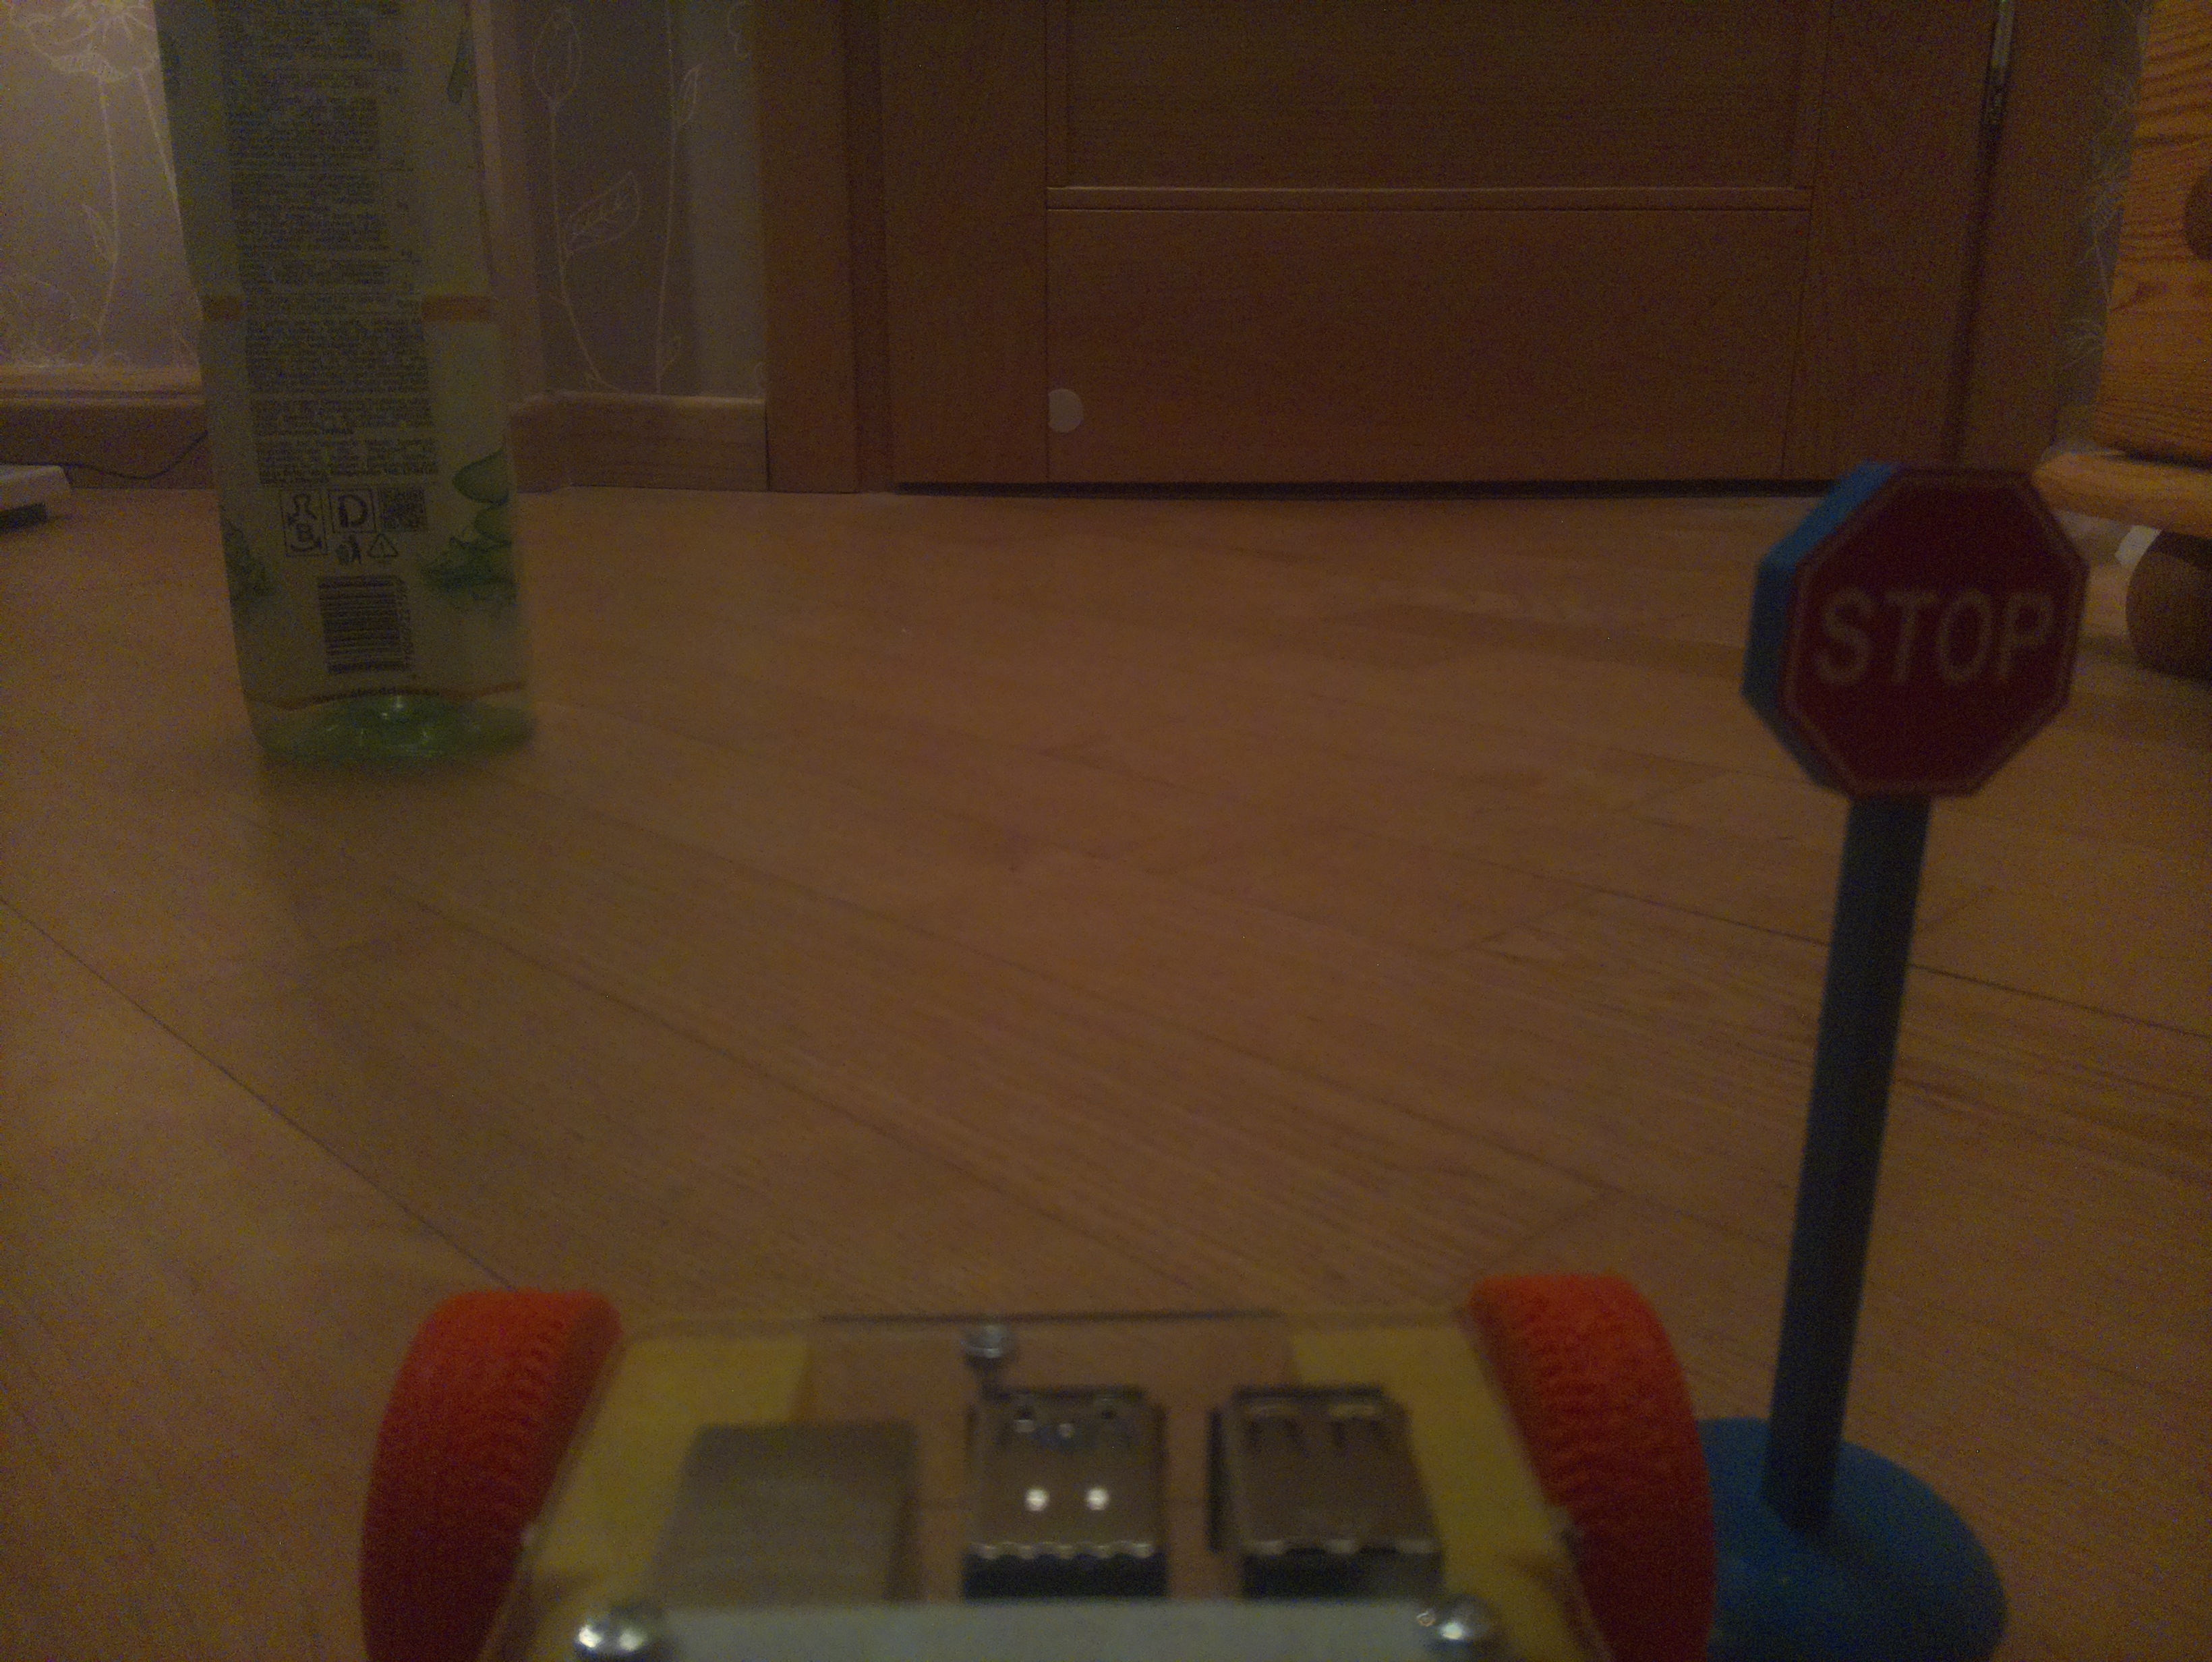stop: (1779, 468, 2089, 798)
